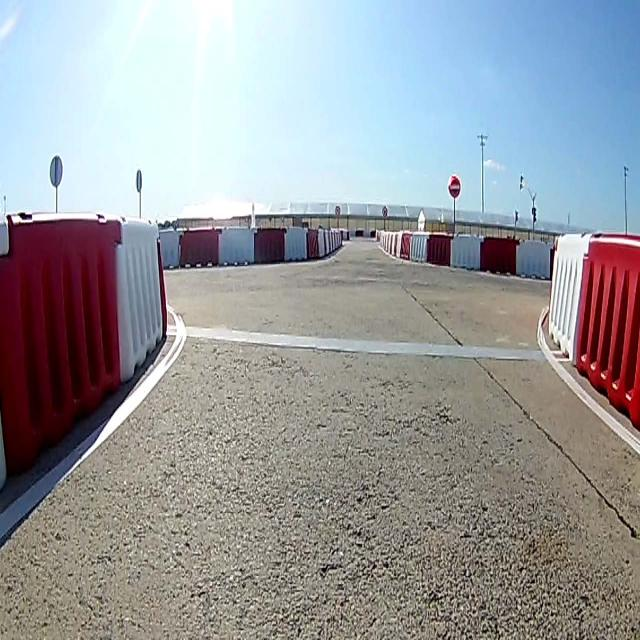girisyok: (447, 172, 462, 200)
